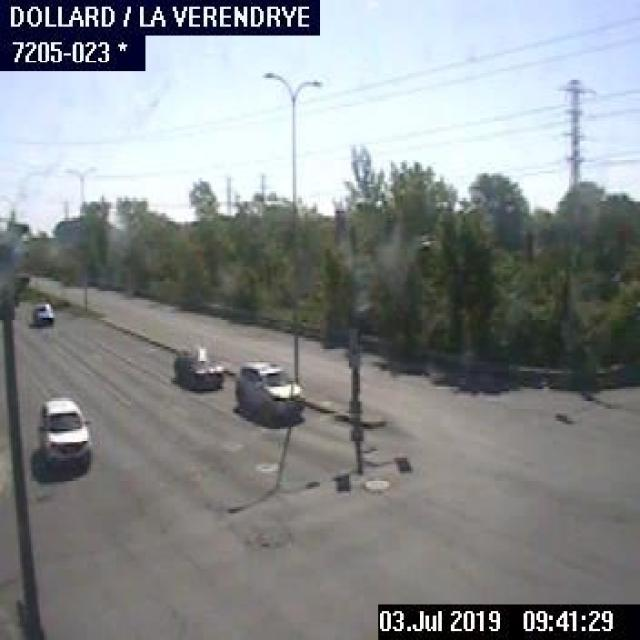vehicle: (228, 354, 306, 426), (37, 395, 90, 472), (170, 342, 224, 390), (27, 298, 56, 327)
